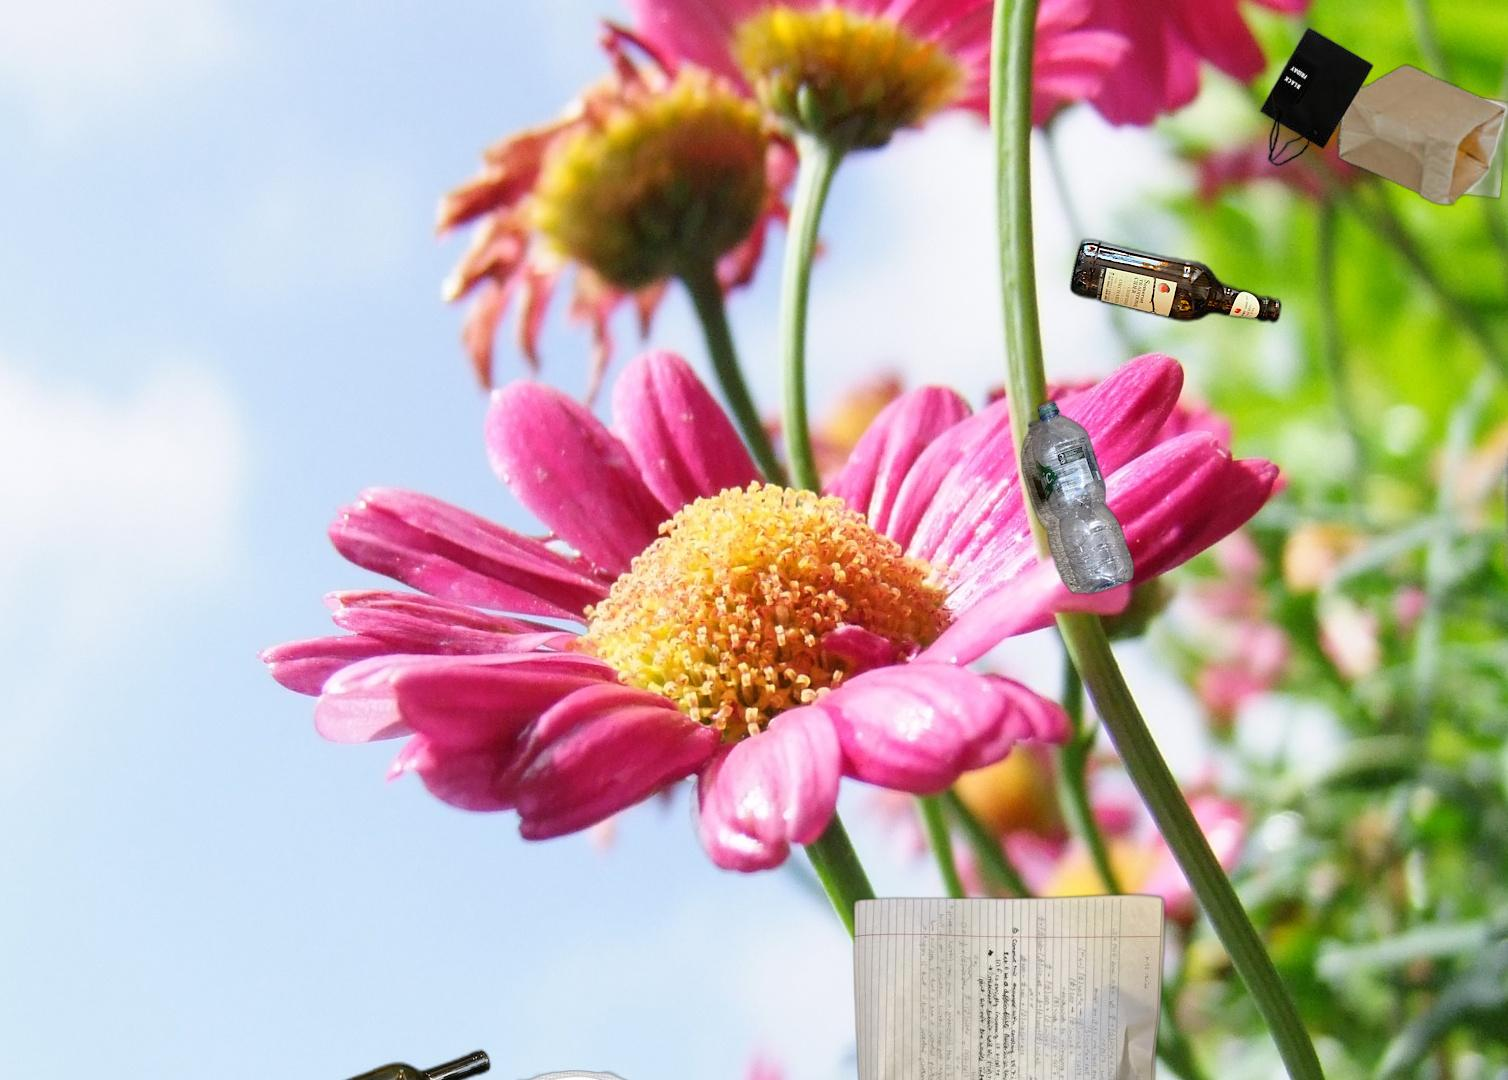glass: (1066, 234, 1286, 328), (236, 1044, 494, 1080)
paper: (849, 889, 1170, 1080)
paper-bag: (1257, 25, 1508, 209)
plastic-bottles: (1018, 397, 1137, 598)
trash: (461, 1068, 684, 1080)
